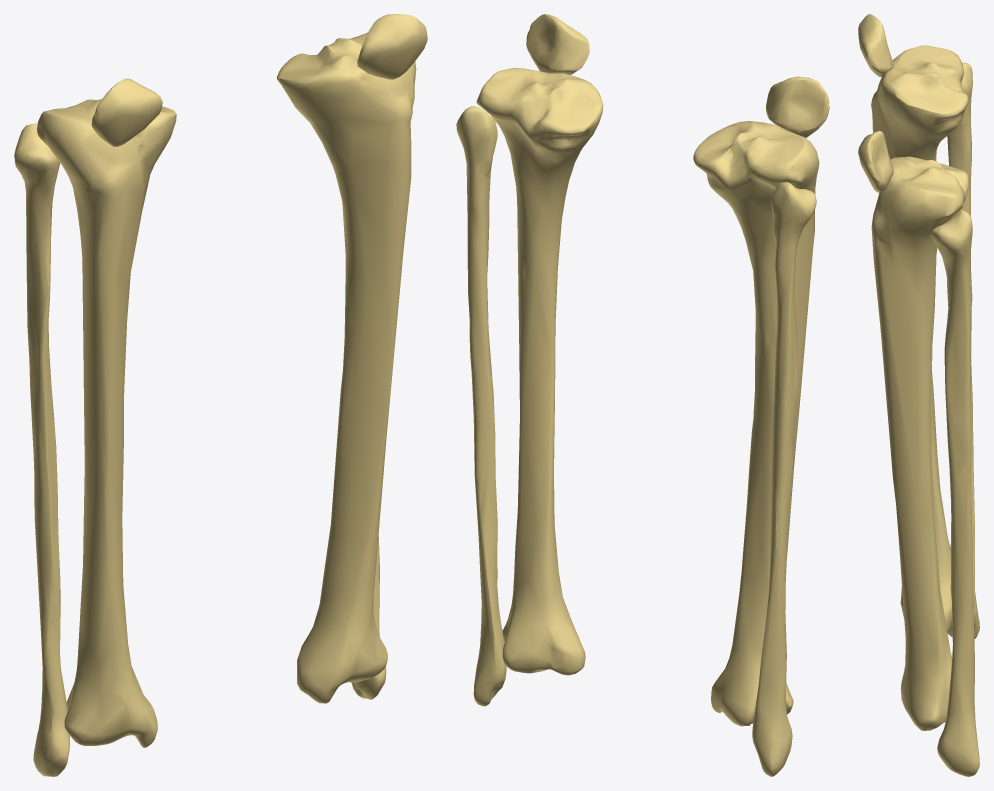
File: knee.glb
The picture shows the model from 3 angles, left to right: view 1: azimuth 30°, elevation 25°; view 2: azimuth 150°, elevation 25°; view 3: azimuth 270°, elevation 25°; orthographic projection. The views are drawn at different scales.
Parts seen in each view (by area): view 1: knee:tibia:isa:FJ3282, knee:tibia:isa:FJ3387, knee:fibula:isa:FJ3366, knee:patella:isa:FJ3275, knee:patella:isa:FJ3381, knee:fibula:isa:FJ3260; view 2: knee:tibia:isa:FJ3282, knee:tibia:isa:FJ3387, knee:fibula:isa:FJ3366, knee:fibula:isa:FJ3260, knee:patella:isa:FJ3381, knee:patella:isa:FJ3275; view 3: knee:tibia:isa:FJ3282, knee:fibula:isa:FJ3260, knee:tibia:isa:FJ3387, knee:fibula:isa:FJ3366, knee:patella:isa:FJ3275, knee:patella:isa:FJ3381.
Boxes of the visible parts, x1,y1,x2,y2 form: knee:tibia:isa:FJ3282: [277, 32, 416, 703]; knee:tibia:isa:FJ3387: [36, 99, 176, 747]; knee:fibula:isa:FJ3366: [14, 123, 70, 776]; knee:patella:isa:FJ3275: [357, 14, 427, 79]; knee:patella:isa:FJ3381: [91, 78, 162, 146]; knee:fibula:isa:FJ3260: [351, 536, 386, 699]; knee:tibia:isa:FJ3282: [476, 68, 603, 675]; knee:tibia:isa:FJ3387: [693, 121, 819, 726]; knee:fibula:isa:FJ3366: [752, 182, 816, 776]; knee:fibula:isa:FJ3260: [456, 106, 506, 706]; knee:patella:isa:FJ3381: [766, 76, 829, 137]; knee:patella:isa:FJ3275: [526, 14, 589, 74]; knee:tibia:isa:FJ3282: [871, 156, 968, 730]; knee:fibula:isa:FJ3260: [931, 209, 979, 776]; knee:tibia:isa:FJ3387: [871, 45, 973, 632]; knee:fibula:isa:FJ3366: [946, 62, 979, 638]; knee:patella:isa:FJ3275: [858, 130, 893, 192]; knee:patella:isa:FJ3381: [858, 14, 893, 76].
Size of the model in its own units: 0.2403 by 0.4261 by 0.0743.
